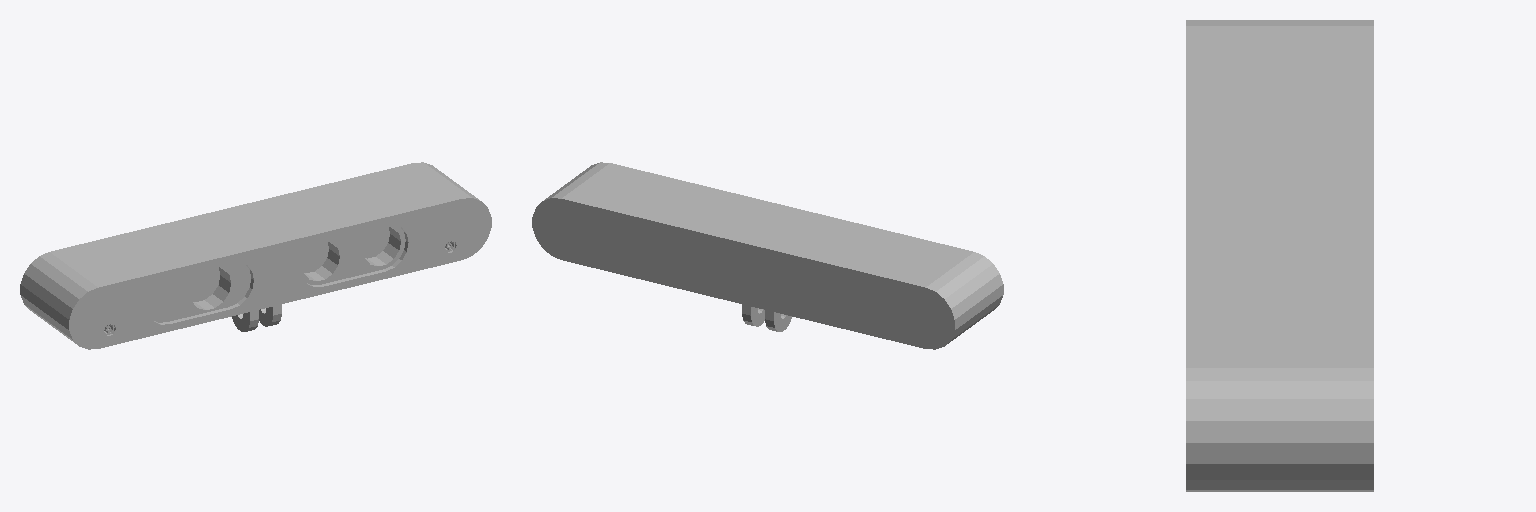
The robot description file, URDF, robot "camera":
<?xml version="1.0" encoding="utf-8"?>
<!-- This URDF was automatically created by SolidWorks to URDF Exporter! Originally created by [author] ([email redacted]) 
     Commit Version: 1.5.1-0-g916b5db  Build Version: 1.5.7152.31018
     For more information, please see http://wiki.ros.org/sw_urdf_exporter -->
<robot
  name="camera">
  <link
    name="camera_ASUS_XTION">
    <inertial>
      <origin
        xyz="-0.00028713 0.01878 -0.000201030000000001"
        rpy="0 0 0" />
      <mass
        value="0.15031" />
      <inertia
        ixx="2.3618E-05"
        ixy="-5.3487E-07"
        ixz="8.67619999999997E-09"
        iyy="0.00039928"
        iyz="1.37240000000004E-08"
        izz="0.00040606" />
    </inertial>
    <visual>
      <origin
        xyz="0 0 0"
        rpy="1.5707963267949 0 0" />
      <geometry>
        <mesh
          filename="package://camera_ASUS_XTION/meshes/camera_ASUS_XTION.STL" />
      </geometry>
      <material
        name="">
        <color
          rgba="0.75294 0.75294 0.75294 1" />
        <texture
          filename="package://camera_ASUS_XTION/textures/" />
      </material>
    </visual>
    <collision>
      <origin
        xyz="0 0 0"
        rpy="1.5707963267949 0 0" />
      <geometry>
        <mesh
          filename="package://camera_ASUS_XTION/meshes/camera_ASUS_XTION.STL" />
      </geometry>
    </collision>
  </link>
</robot>

--- Render facts (derived) ---
Views: 3 orthographic renders of the robot side by side, from view 1: azimuth 30°, elevation 25°; view 2: azimuth 150°, elevation 25°; view 3: azimuth 270°, elevation 25°.
Robot: camera — 1 links, 0 joints (none); root link camera_ASUS_XTION; default pose: every joint at zero.
Links seen in each view (by area): view 1: camera_ASUS_XTION; view 2: camera_ASUS_XTION; view 3: camera_ASUS_XTION.
Boxes of the visible links, <box> form: camera_ASUS_XTION: <box>20,162,491,349</box>; camera_ASUS_XTION: <box>532,162,1003,349</box>; camera_ASUS_XTION: <box>1186,20,1373,491</box>.
Bounding box of the posed robot: 0.1796 × 0.036 × 0.0413 m (x, y, z).
1 mesh visuals loaded from 1 distinct referenced files (1 binary STL).
